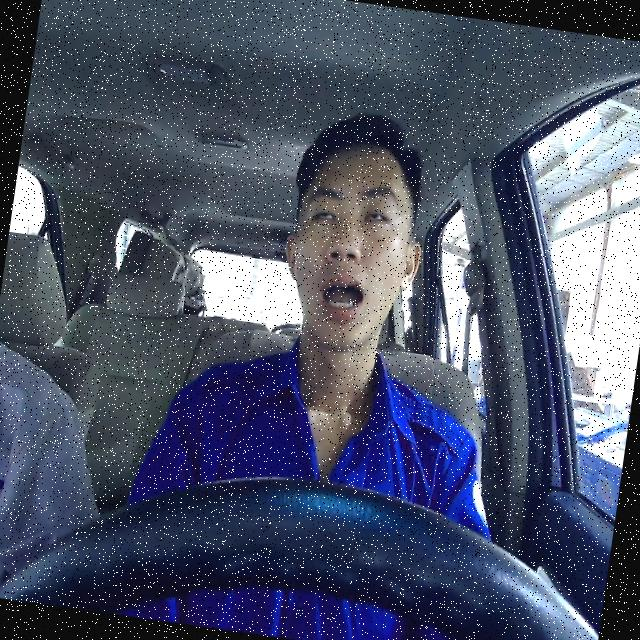yarning: (268, 129, 437, 362)
